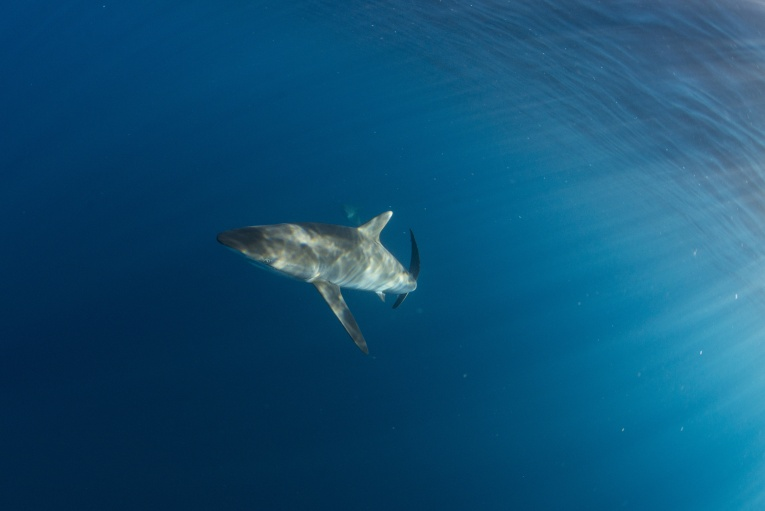Sedoso: (203, 204, 438, 362)
